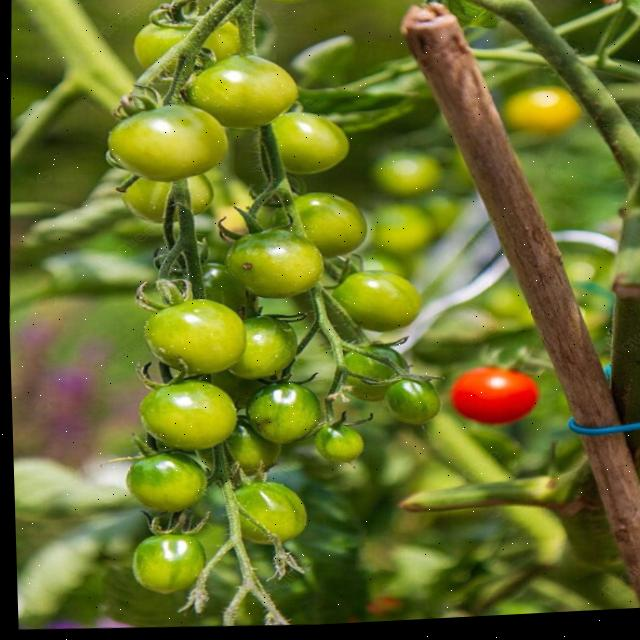overripe: (450, 363, 547, 440)
unripe: (99, 100, 235, 189), (116, 295, 251, 377), (183, 48, 302, 138), (222, 221, 329, 305), (133, 374, 239, 456), (245, 374, 327, 453), (223, 475, 310, 548), (124, 527, 208, 600), (338, 269, 427, 336), (123, 450, 212, 517), (287, 193, 369, 260), (231, 317, 307, 386), (377, 381, 452, 439), (312, 426, 366, 473)
